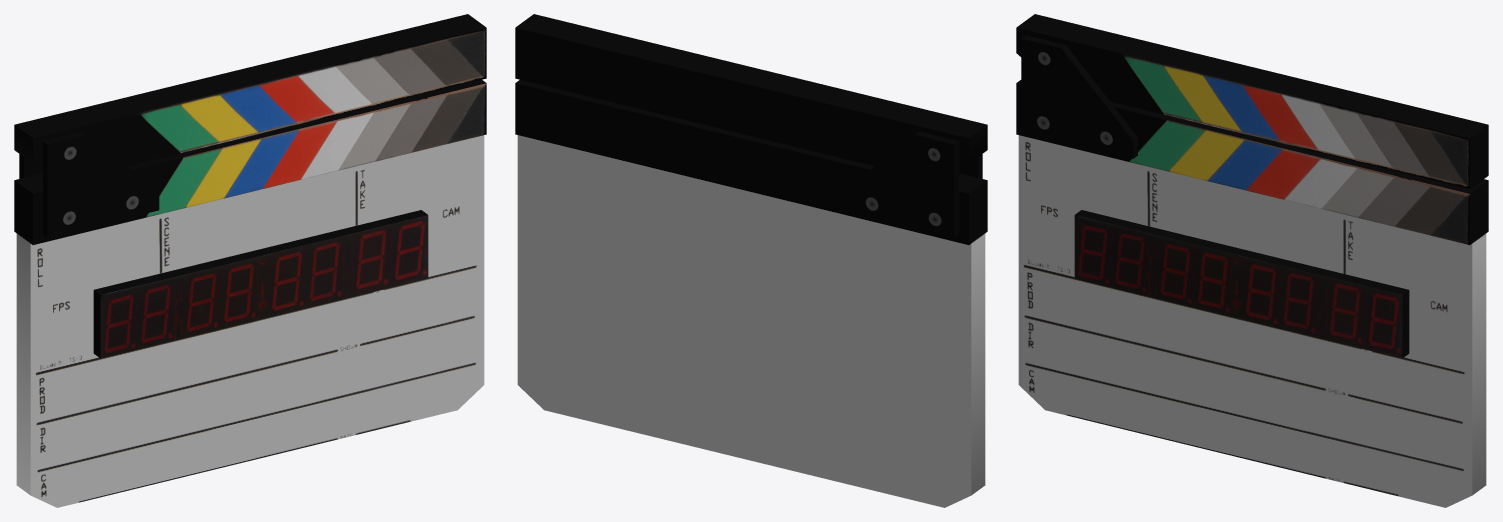
File: Ciack_def.fbx
The picture shows the model from 3 angles, left to right: view 1: azimuth 30°, elevation 25°; view 2: azimuth 150°, elevation 25°; view 3: azimuth 330°, elevation 25°; orthographic projection.
Parts seen in each view (by area): view 1: Cube, Cube.001; view 2: Cube, Cube.001; view 3: Cube, Cube.001.
Boxes of the visible parts, x1=… form: Cube: x1=14, y1=80, x2=486, y2=507; Cube.001: x1=14, y1=14, x2=486, y2=167; Cube: x1=515, y1=80, x2=987, y2=507; Cube.001: x1=515, y1=14, x2=987, y2=167; Cube: x1=1016, y1=35, x2=1488, y2=507; Cube.001: x1=1016, y1=14, x2=1488, y2=189.
Bounding box in the file's own units: 28 × 22.27 × 3.
Materials: 2 (2 with a texture image).
